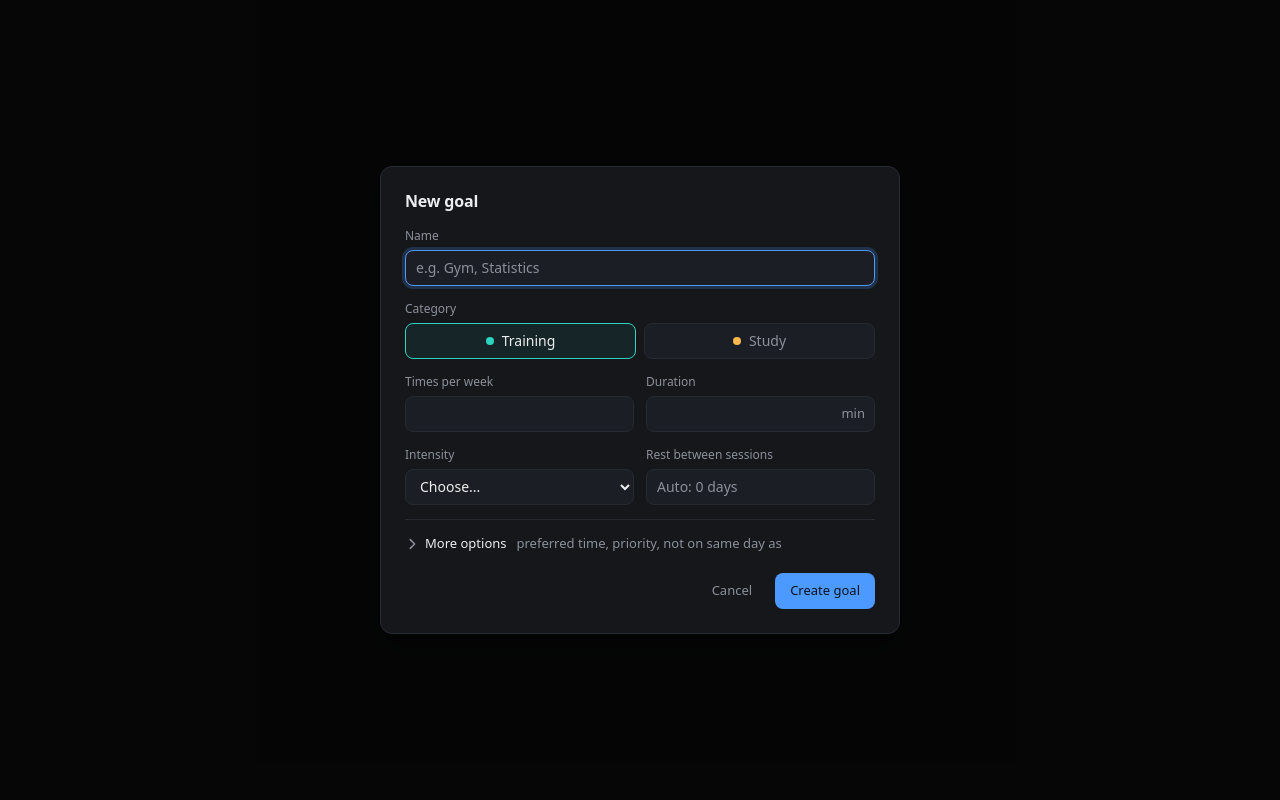
GoalDialog "Not on the same day as" › closes the dropdown on a click outside
The width and height of the screenshot is (1280, 800).
Click the button "More options preferred time, priority, not on same day as" at (640, 544), box [405,532,875,555]
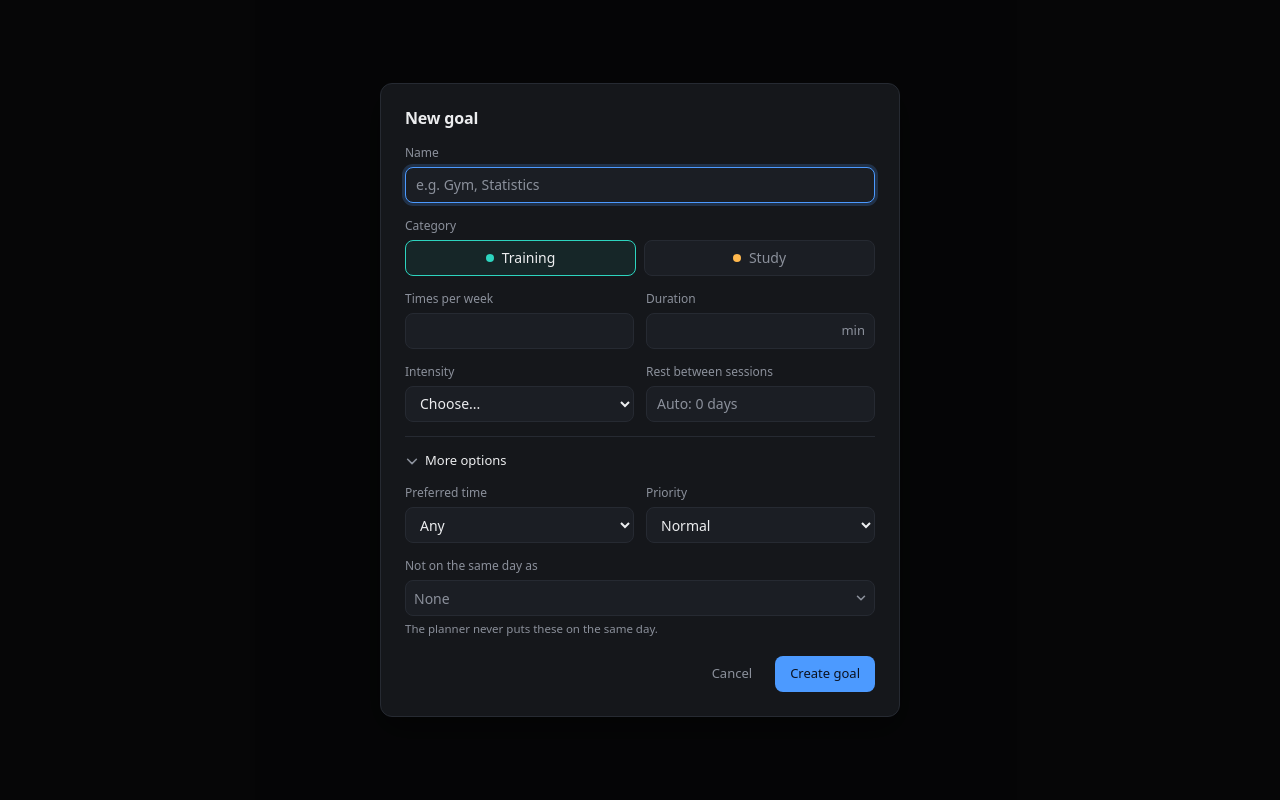
Click the button named "Not on the same day as" at (432, 598), box [414,585,868,611]
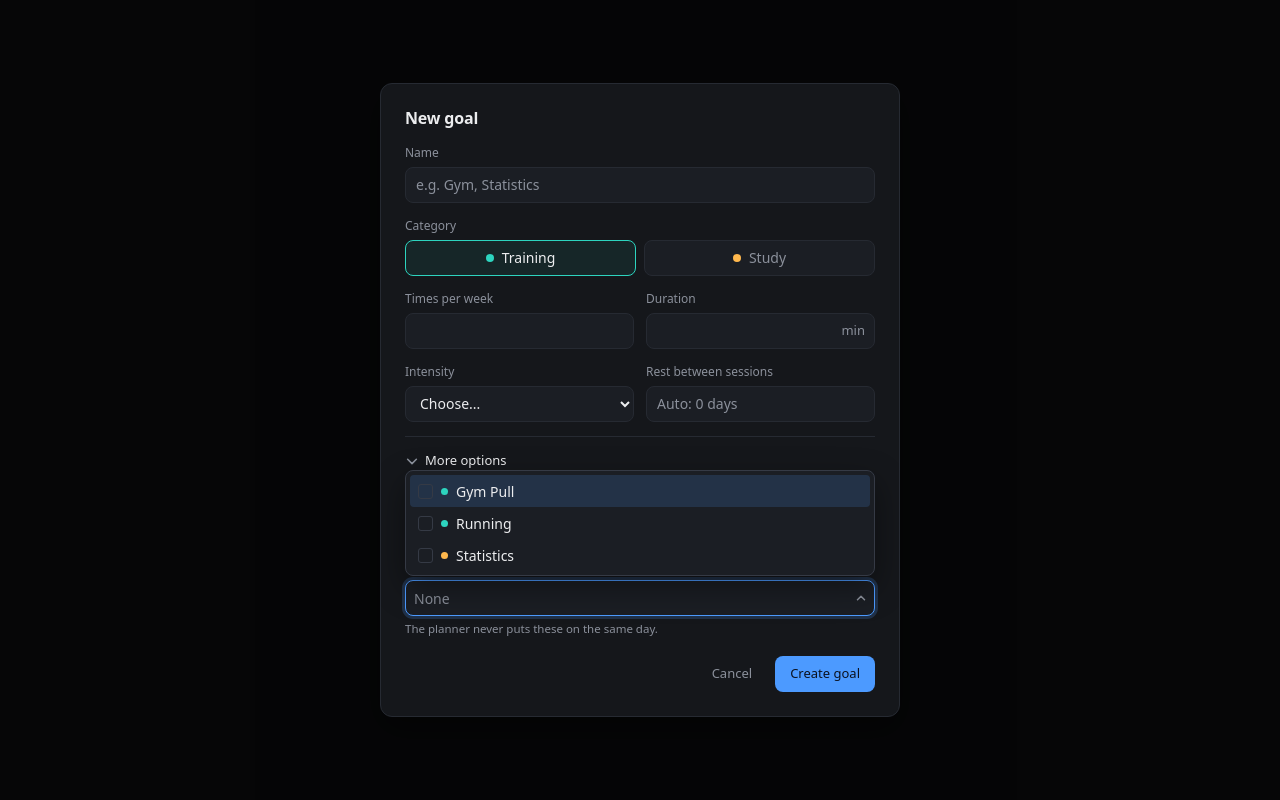
Now the list is shown, box [405,470,875,576]
Press the mouse on the field labelled "Name" at (640, 185), box [405,167,875,203]
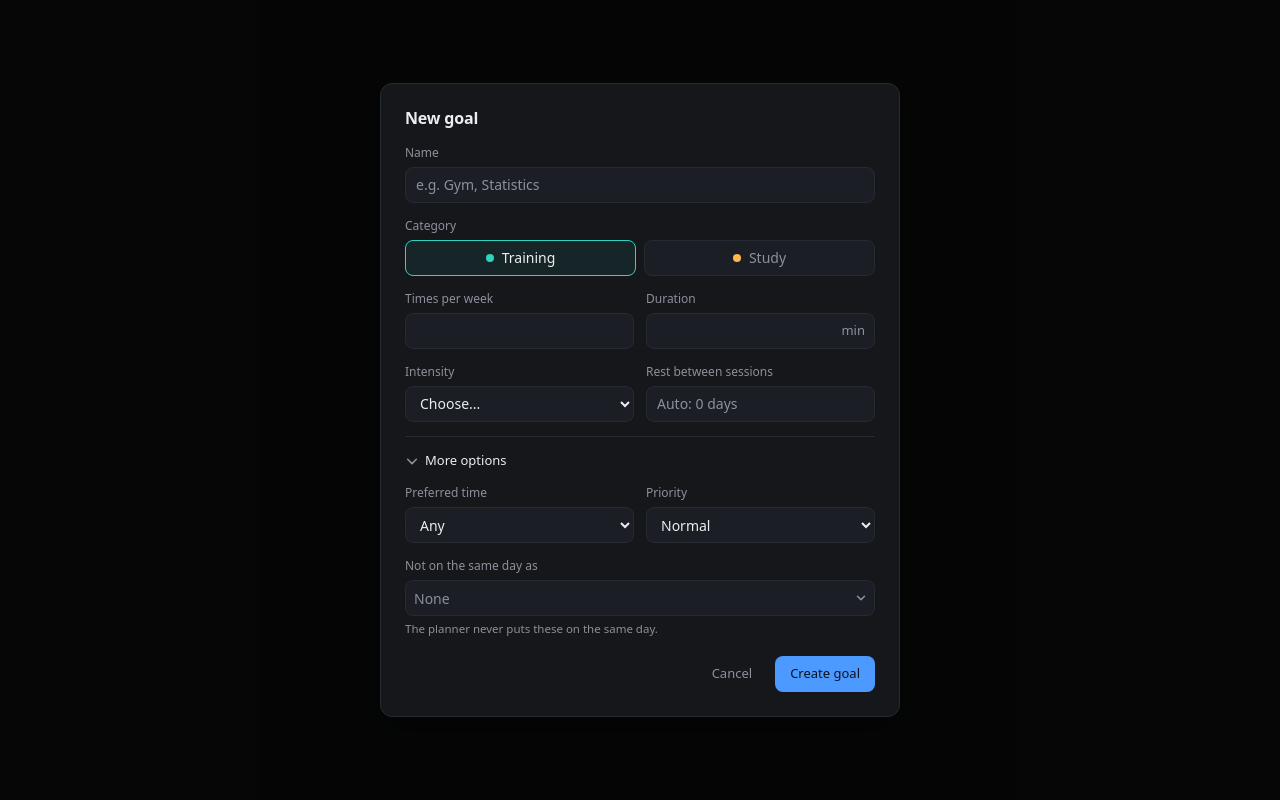
Now the list is gone
